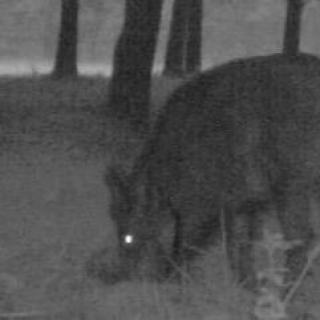Pig: (80, 39, 320, 294)
